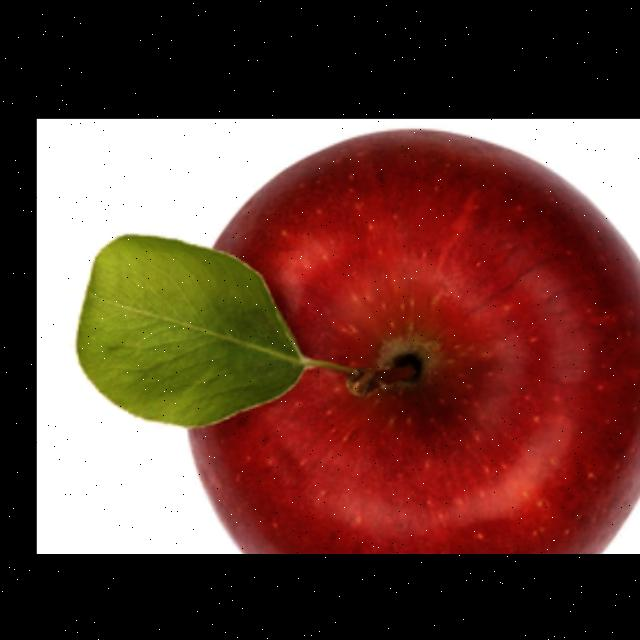Apel Segar: (174, 123, 640, 552)
